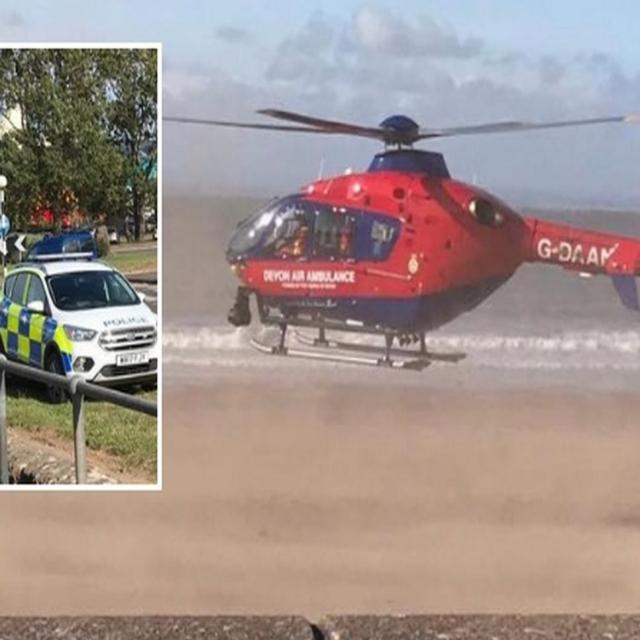helicopter: (119, 49, 582, 386)
